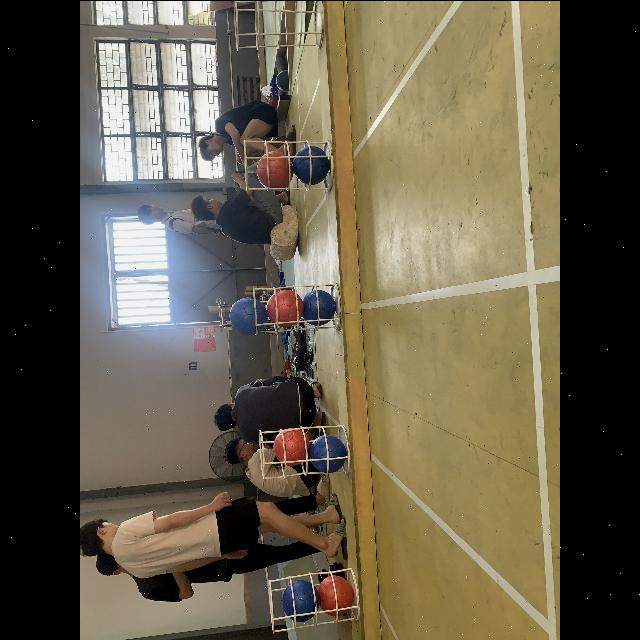B: (280, 579, 320, 621), (229, 296, 269, 334), (294, 144, 332, 182), (310, 432, 344, 472), (304, 288, 336, 326)
R: (274, 426, 312, 466), (318, 572, 354, 612), (256, 150, 292, 188), (268, 288, 304, 324)
